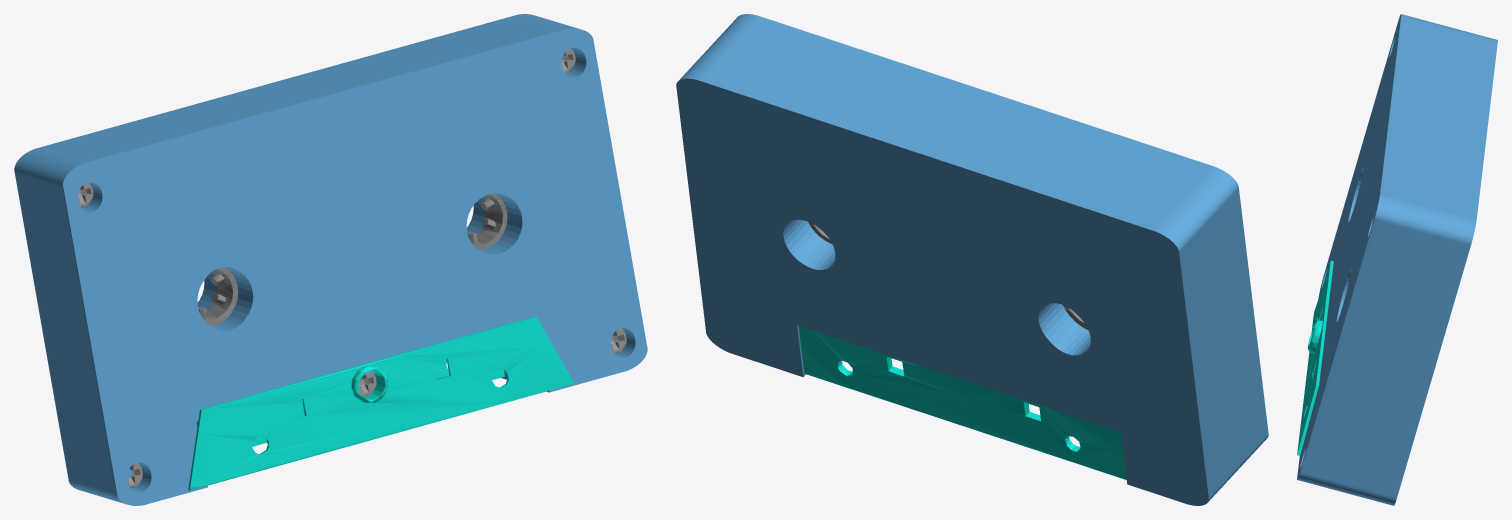
File: disk.glb
3 views of the same model, side by side, from view 1: azimuth 30°, elevation 25°; view 2: azimuth 150°, elevation 25°; view 3: azimuth 270°, elevation 25° (orthographic). The views are drawn at different scales.
Parts seen in each view (by area): view 1: WHEELS; view 2: WHEELS; view 3: WHEELS.
Boxes of the visible parts, left/top/right/bottom form: WHEELS: left=14, top=14, right=647, bottom=505; WHEELS: left=676, top=14, right=1268, bottom=505; WHEELS: left=1297, top=14, right=1497, bottom=505.
Size of the model in its own units: 0.3558 by 0.2324 by 0.1301.
